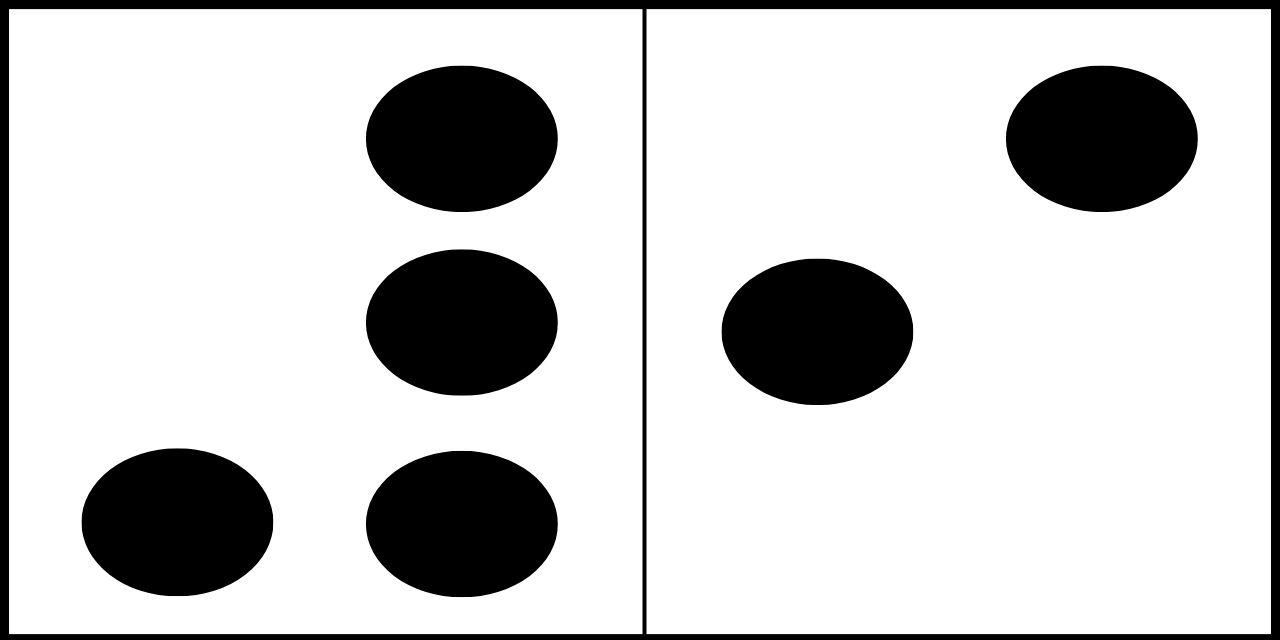digit_9: (718, 65, 1199, 593)
number_sign: (81, 64, 560, 598)
